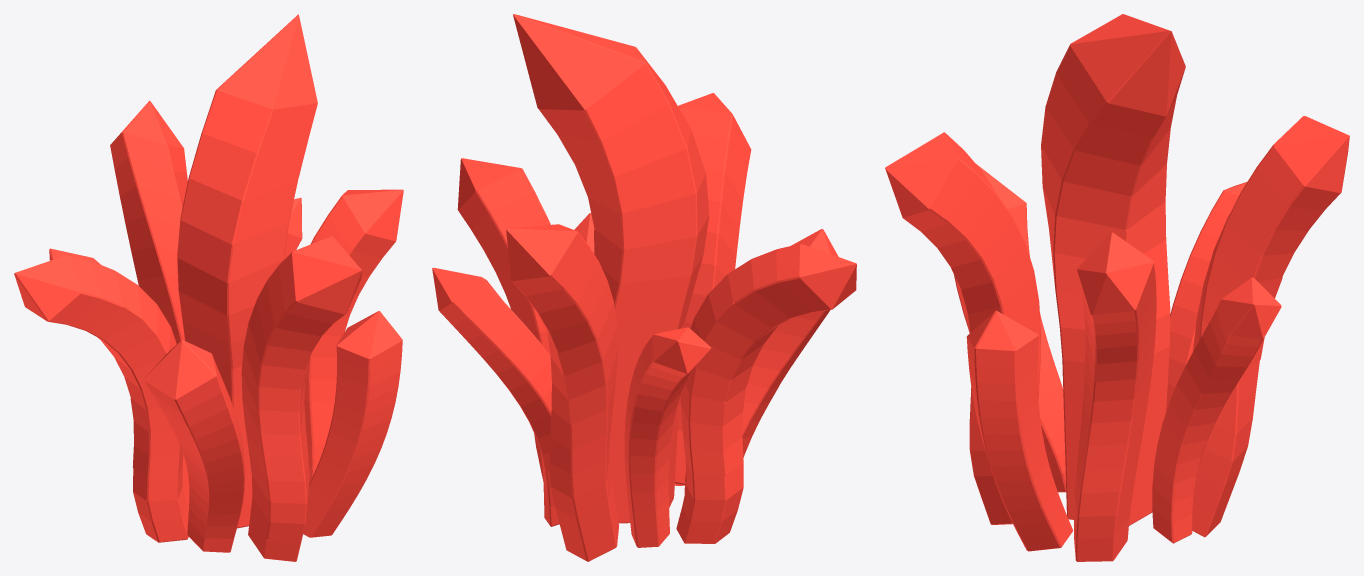
File: Tantalite_V1.fbx
The picture shows the model from 3 angles, left to right: view 1: azimuth 30°, elevation 25°; view 2: azimuth 150°, elevation 25°; view 3: azimuth 270°, elevation 25°; orthographic projection. The views are drawn at different scales.
Visible parts, largest first — view 1: Circle; view 2: Circle; view 3: Circle.
Boxes of the visible parts, x1,y1,x2,y2 form: Circle: (14, 14, 403, 561); Circle: (432, 14, 856, 561); Circle: (885, 14, 1349, 561).
Size of the model in its own units: 746 by 890 by 691.
